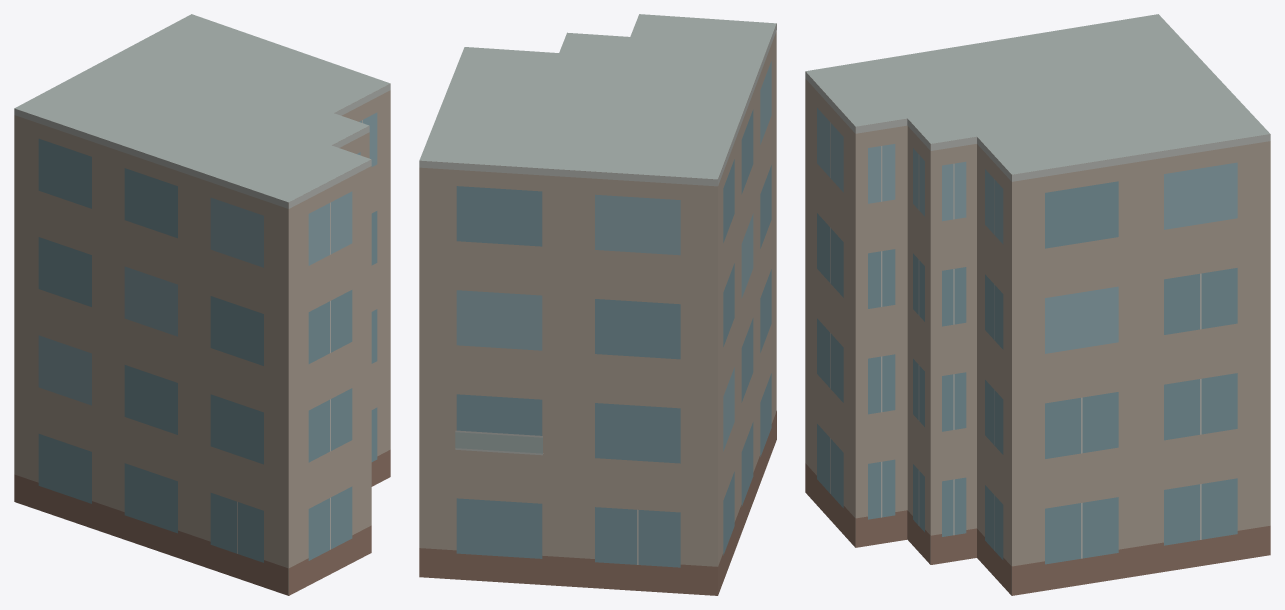
File: survey-upis-32843269.glb
3 views of the same model, side by side, from view 1: azimuth 30°, elevation 25°; view 2: azimuth 150°, elevation 25°; view 3: azimuth 270°, elevation 25° (orthographic). The views are drawn at different scales.
Visible parts, largest first — view 1: survey-upis-32843269.tmp; view 2: survey-upis-32843269.tmp; view 3: survey-upis-32843269.tmp.
Part boxes in pixels (x1,y1,x2,y2): survey-upis-32843269.tmp: [14, 14, 390, 595]; survey-upis-32843269.tmp: [419, 14, 776, 595]; survey-upis-32843269.tmp: [805, 14, 1270, 595].
Bounding box in the file's own units: 11.93 × 14.55 × 14.58.
